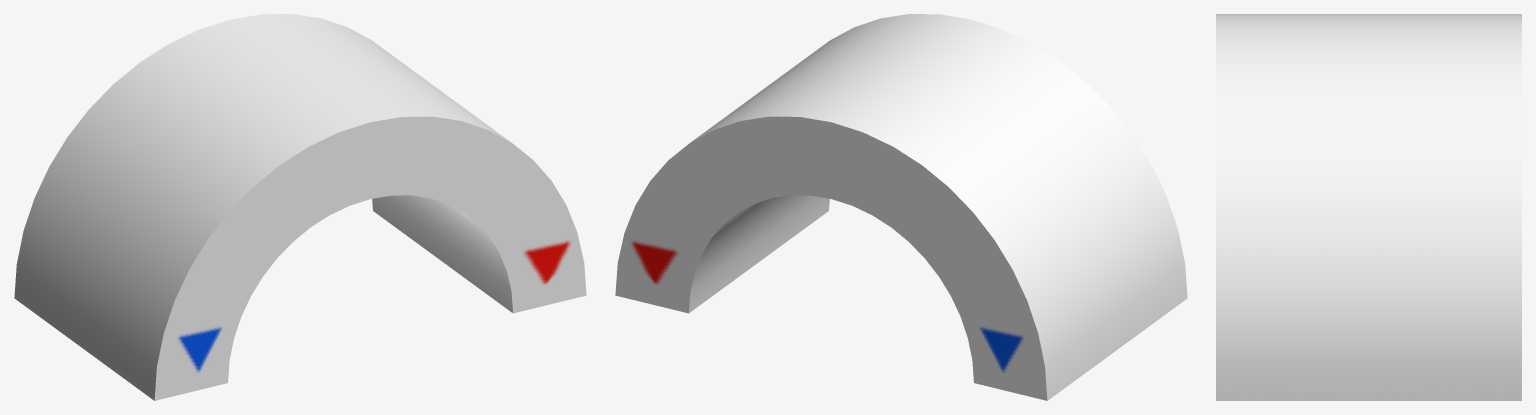
File: arch.fbx
3 renders of one model, left to right at view 1: azimuth 30°, elevation 25°; view 2: azimuth 150°, elevation 25°; view 3: azimuth 270°, elevation 25°, orthographic. The views are drawn at different scales.
Parts seen in each view (by area): view 1: Circle001; view 2: Circle001; view 3: Circle001.
Part boxes in pixels (x1,y1,x2,y2): Circle001: (14, 14, 586, 400); Circle001: (615, 14, 1187, 400); Circle001: (1216, 14, 1521, 400).
Bounding box in the file's own units: 140 × 70 × 78.67.
